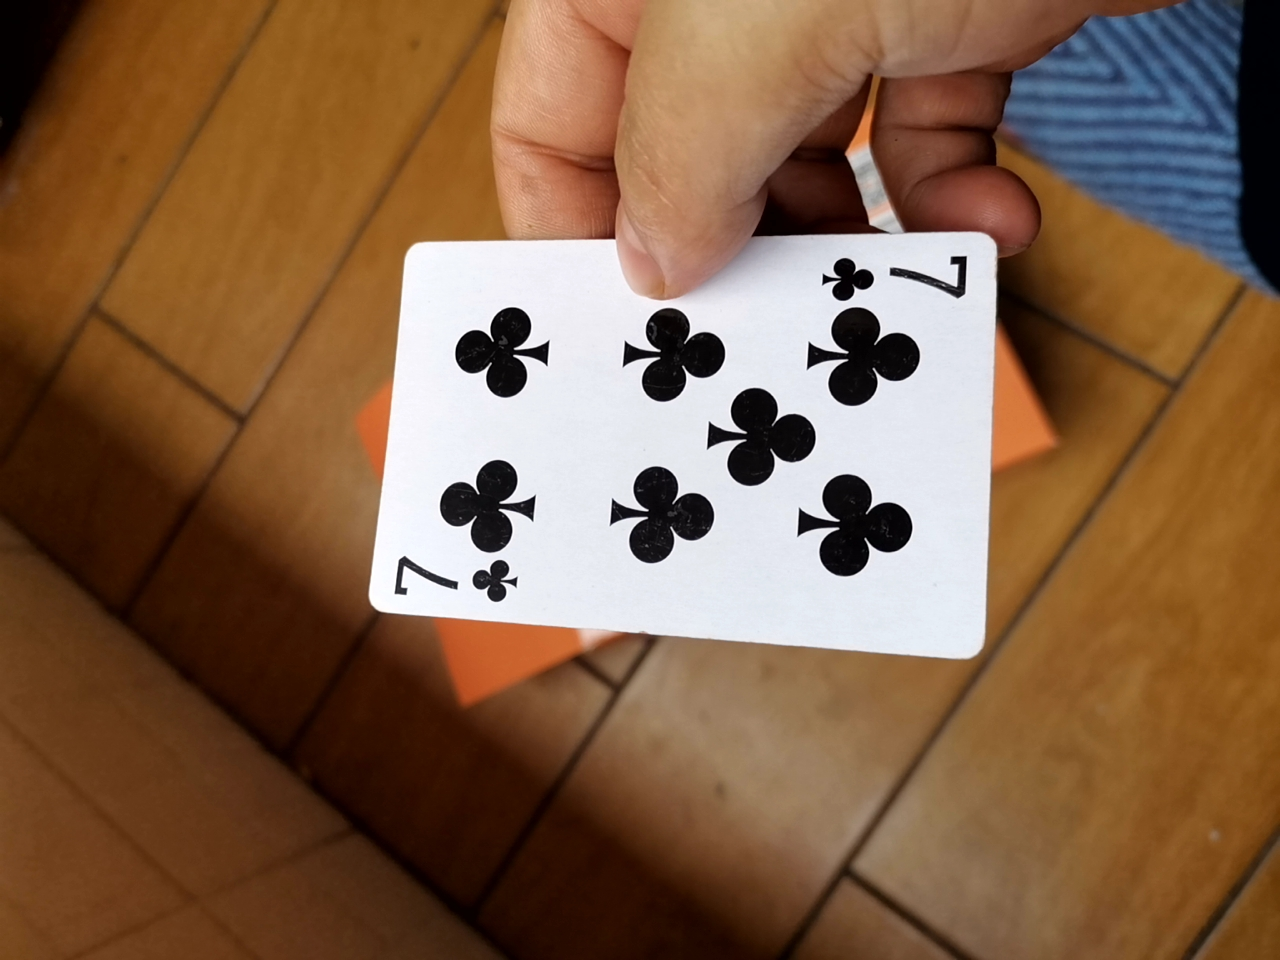mh 7: (353, 228, 1009, 669)
